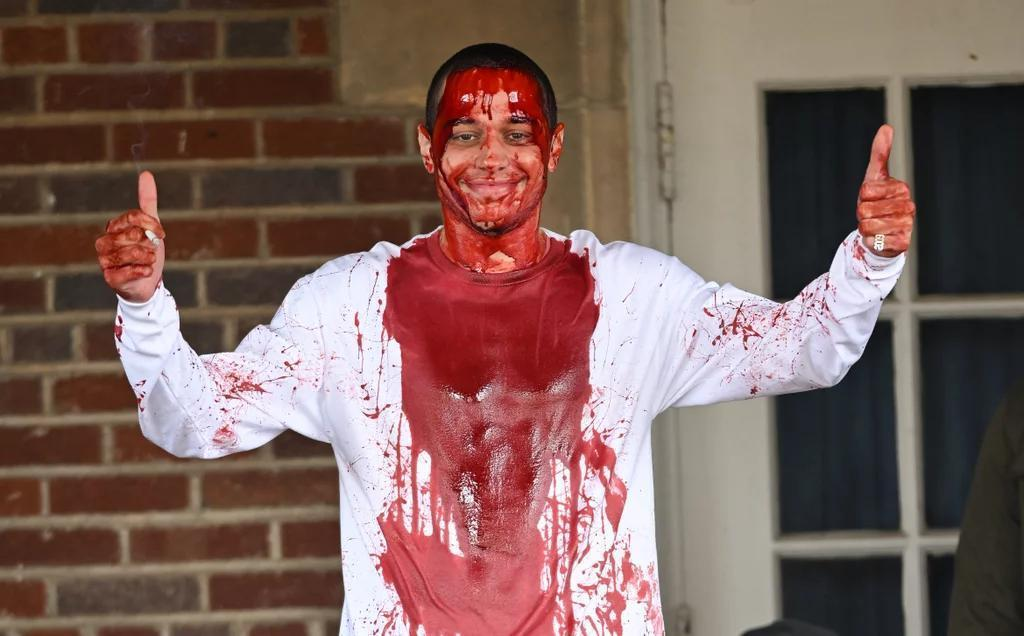Fire: (377, 236, 662, 636), (419, 67, 565, 273), (704, 273, 833, 350), (204, 352, 294, 454), (858, 124, 917, 256), (866, 128, 914, 254), (94, 209, 165, 292), (356, 313, 386, 368), (361, 381, 381, 419)
